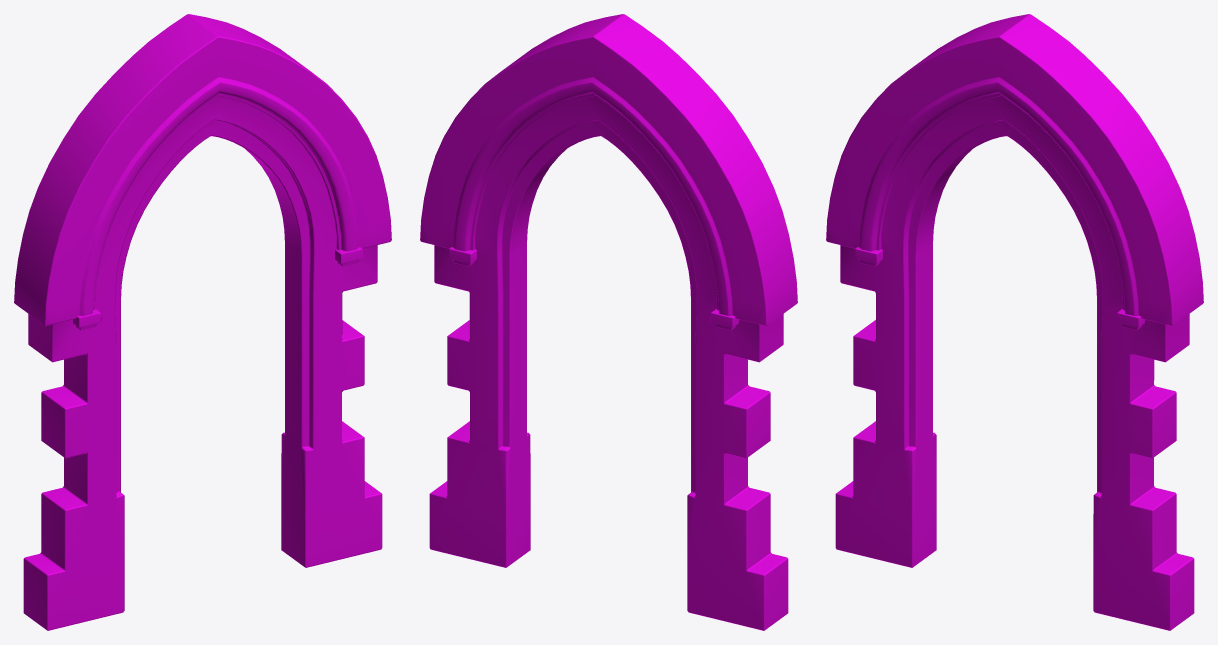
Rendered from Door1PeakFrame2.fbx.
3 views of the same model, side by side, from view 1: azimuth 30°, elevation 25°; view 2: azimuth 150°, elevation 25°; view 3: azimuth 330°, elevation 25° (orthographic).
Parts seen in each view (by area): view 1: Door1PeakFrame2; view 2: Door1PeakFrame2; view 3: Door1PeakFrame2.
Part boxes in pixels (left/top/right/bottom): Door1PeakFrame2: left=14, top=14, right=391, bottom=630; Door1PeakFrame2: left=420, top=14, right=797, bottom=630; Door1PeakFrame2: left=826, top=14, right=1203, bottom=630.
Bounding box in the file's own units: 213 × 326 × 38.71.
